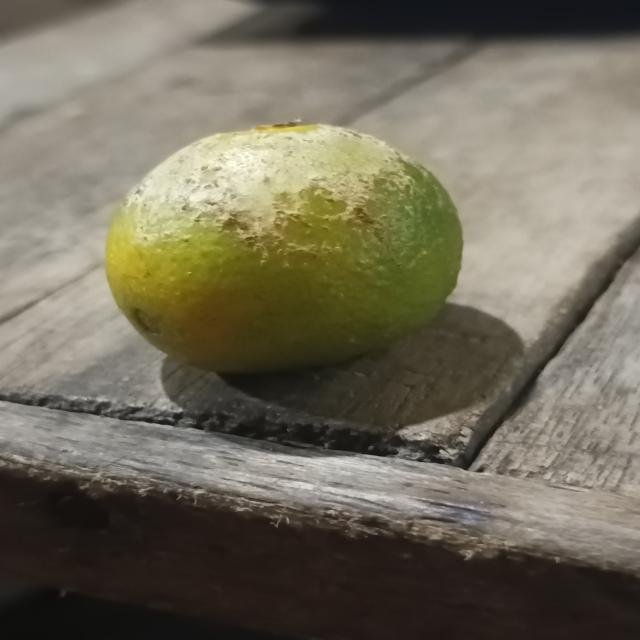thrips: (104, 117, 468, 365)
